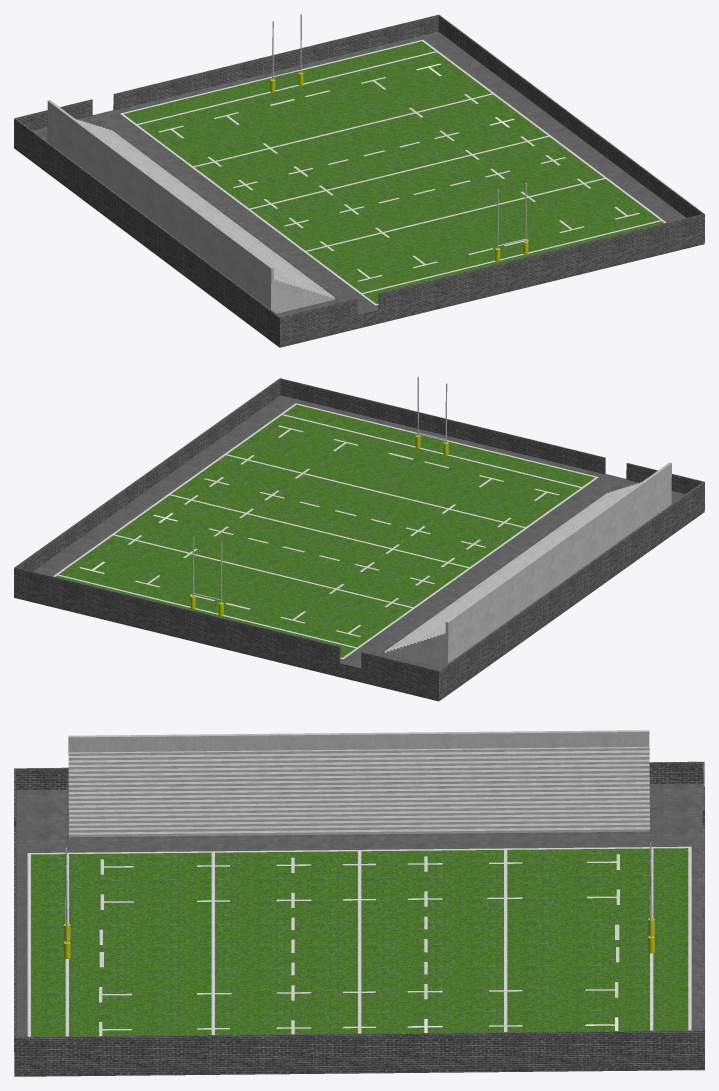
File: rugby_field.glb
3 renders of one model, top to bottom at view 1: azimuth 30°, elevation 25°; view 2: azimuth 150°, elevation 25°; view 3: azimuth 270°, elevation 25°, orthographic. The views are drawn at different scales.
Visible parts, largest first — view 1: Material2 (×4), Material3; view 2: Material2 (×4), Material3; view 3: Material2 (×4), Material3.
Part boxes in pixels (x1,y1,x2,y2): Material2 (×4): (33, 14, 685, 316); Material3: (14, 14, 704, 347); Material2 (×4): (33, 377, 685, 670); Material3: (14, 378, 704, 701); Material2 (×4): (16, 730, 702, 1036); Material3: (14, 761, 704, 1076).
Size of the model in its own units: 62.99 by 12.64 by 68.28.
7 materials, 6 textured.
